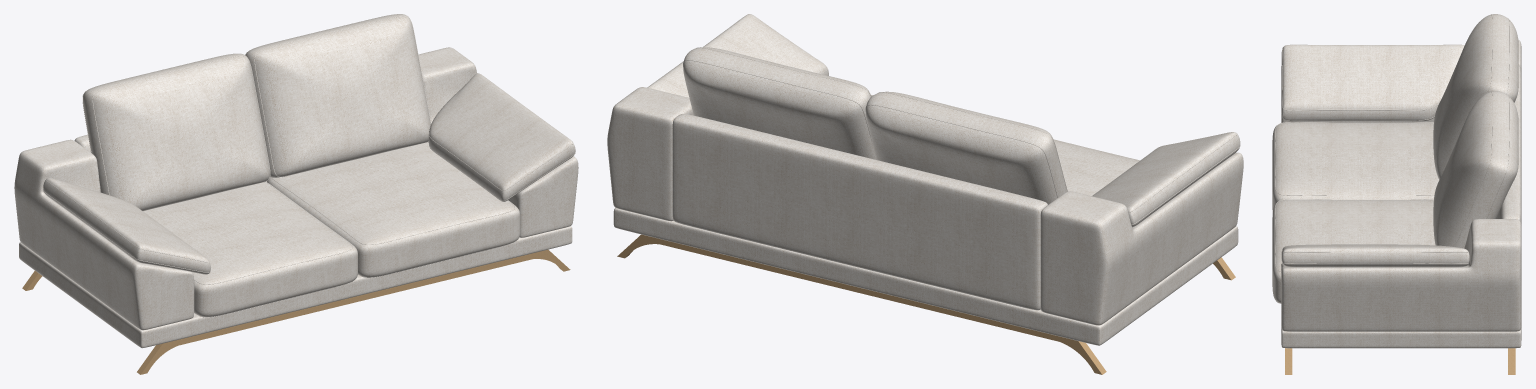
The model's file is 2arm2seats.glb.
3 views of the same model, side by side, from view 1: azimuth 30°, elevation 25°; view 2: azimuth 150°, elevation 25°; view 3: azimuth 270°, elevation 25° (orthographic). The views are drawn at different scales.
Visible parts, largest first — view 1: object 23, object 19, object 14, object 15, object 10, object 30, base, object 27, object 1, barra pé, pé fienza; view 2: costa estrutura, object 10, object 23, object 19, base, object 1, object 27, object 30, object 15, barra pé, pé fienza; view 3: object 1, object 27, object 15, object 19, object 14, object 23, object 30, base, costa estrutura, D=~ 0,00 m (×2), object 10.
Boxes of the visible parts, x1,y1,x2,y2 form: object 23: (83, 53, 269, 210); object 19: (245, 14, 430, 177); object 14: (267, 142, 520, 277); object 15: (143, 182, 357, 317); object 10: (14, 139, 194, 330); object 30: (428, 73, 575, 201); base: (19, 226, 572, 348); object 27: (43, 178, 210, 274); object 1: (418, 47, 578, 237); barra pé: (178, 253, 532, 345); pé fienza: (137, 340, 178, 374); costa estrutura: (672, 114, 1047, 310); object 10: (1040, 152, 1243, 325); object 23: (865, 91, 1067, 204); object 19: (683, 47, 876, 159); base: (613, 207, 1238, 345); object 1: (607, 87, 693, 221); object 27: (1092, 132, 1240, 227); object 30: (647, 14, 828, 97); object 15: (1053, 139, 1139, 195); barra pé: (660, 239, 1059, 341); pé fienza: (1059, 336, 1106, 374); object 1: (1281, 219, 1521, 331); object 27: (1281, 44, 1464, 121); object 15: (1272, 122, 1439, 211); object 19: (1433, 91, 1518, 248); object 14: (1272, 199, 1435, 303); object 23: (1433, 14, 1518, 179); object 30: (1281, 244, 1469, 267); base: (1281, 326, 1521, 348); costa estrutura: (1496, 65, 1521, 225); D=~ 0,00 m (×2): (1275, 46, 1438, 195); object 10: (1281, 40, 1521, 122).
Size of the model in its own units: 2.02 by 0.8332 by 1.01.
2 materials, 2 textured.
